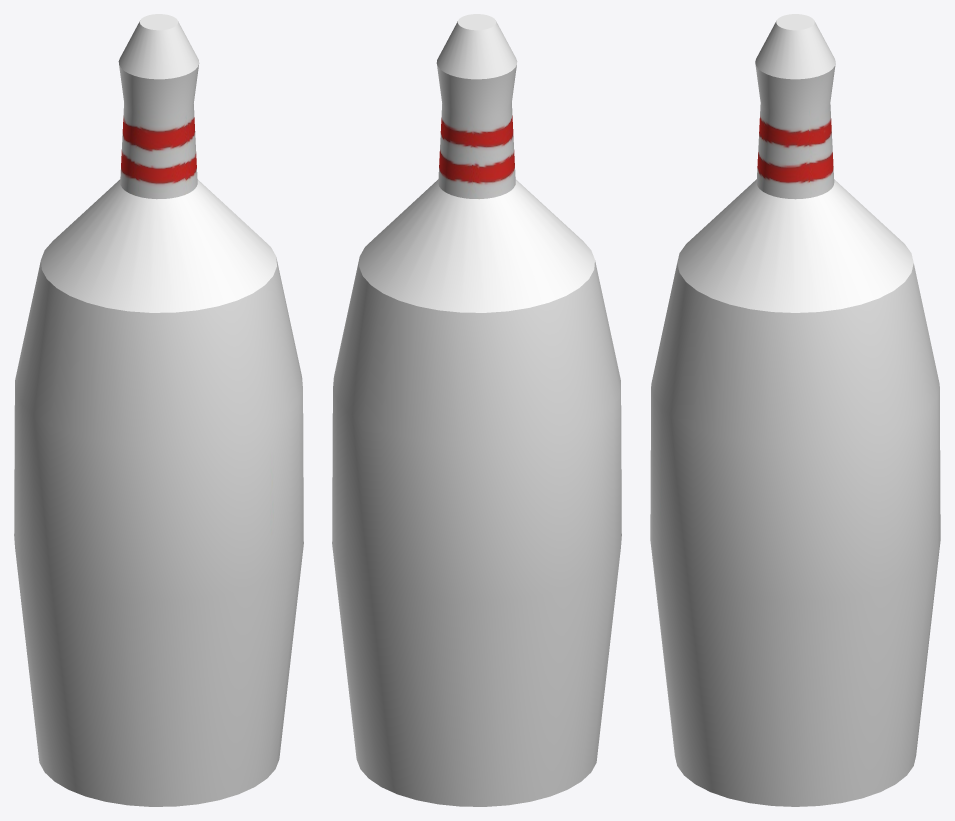
File: pin.glb
The picture shows the model from 3 angles, left to right: view 1: azimuth 30°, elevation 25°; view 2: azimuth 150°, elevation 25°; view 3: azimuth 270°, elevation 25°; orthographic projection.
Visible parts, largest first — view 1: Cylinder; view 2: Cylinder; view 3: Cylinder.
Part boxes in pixels (box(x1,y1,x2,y2)): Cylinder: box(14, 14, 303, 806); Cylinder: box(332, 14, 621, 806); Cylinder: box(650, 14, 940, 806).
Bounding box in the file's own units: 0.7169 × 2 × 0.7169.
Materials: 1 (1 with a texture image).
